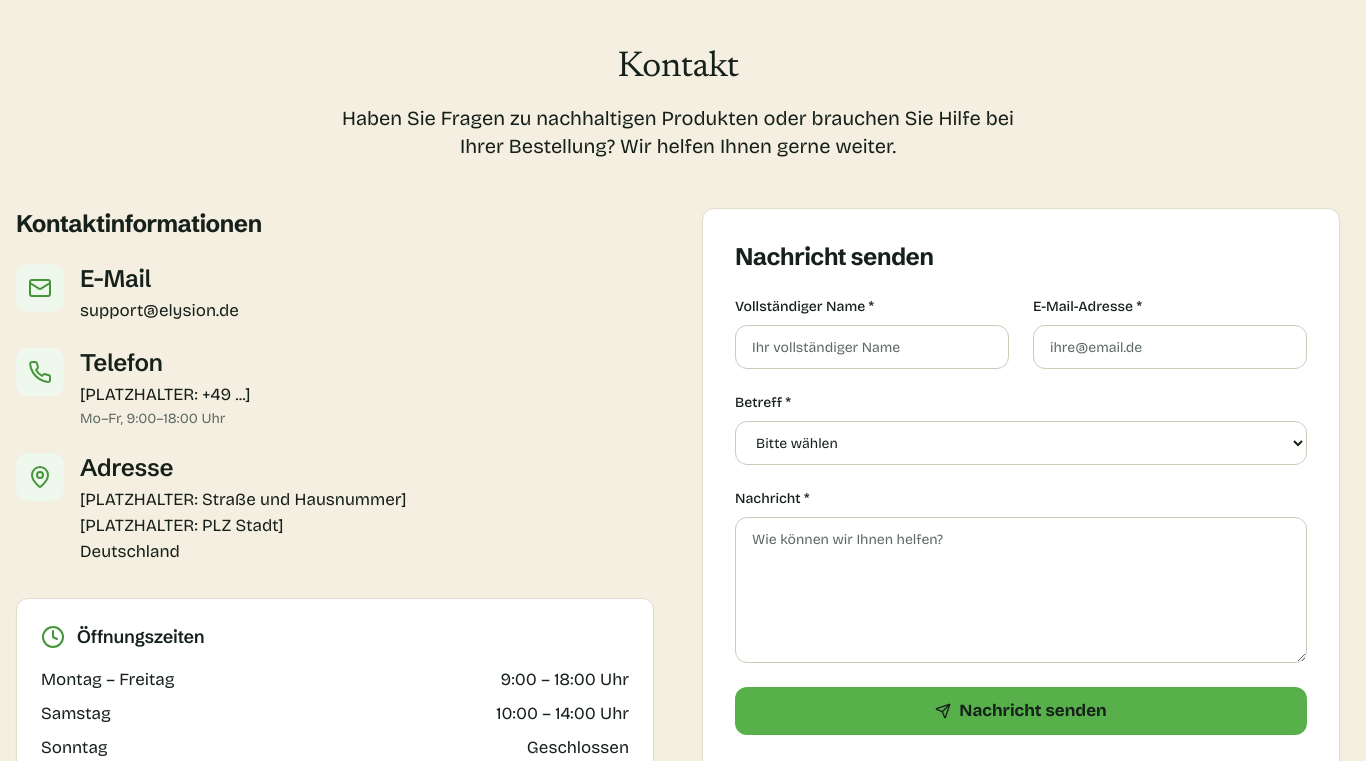
Scenario: Contact — POST /api/v1/contact (#120) › blocks a too-short message before the request and names the field
Type "Max Mustermann" into the field labelled "Vollständiger Name *" at [872, 347], box x1=735 y1=325 x2=1009 y2=369
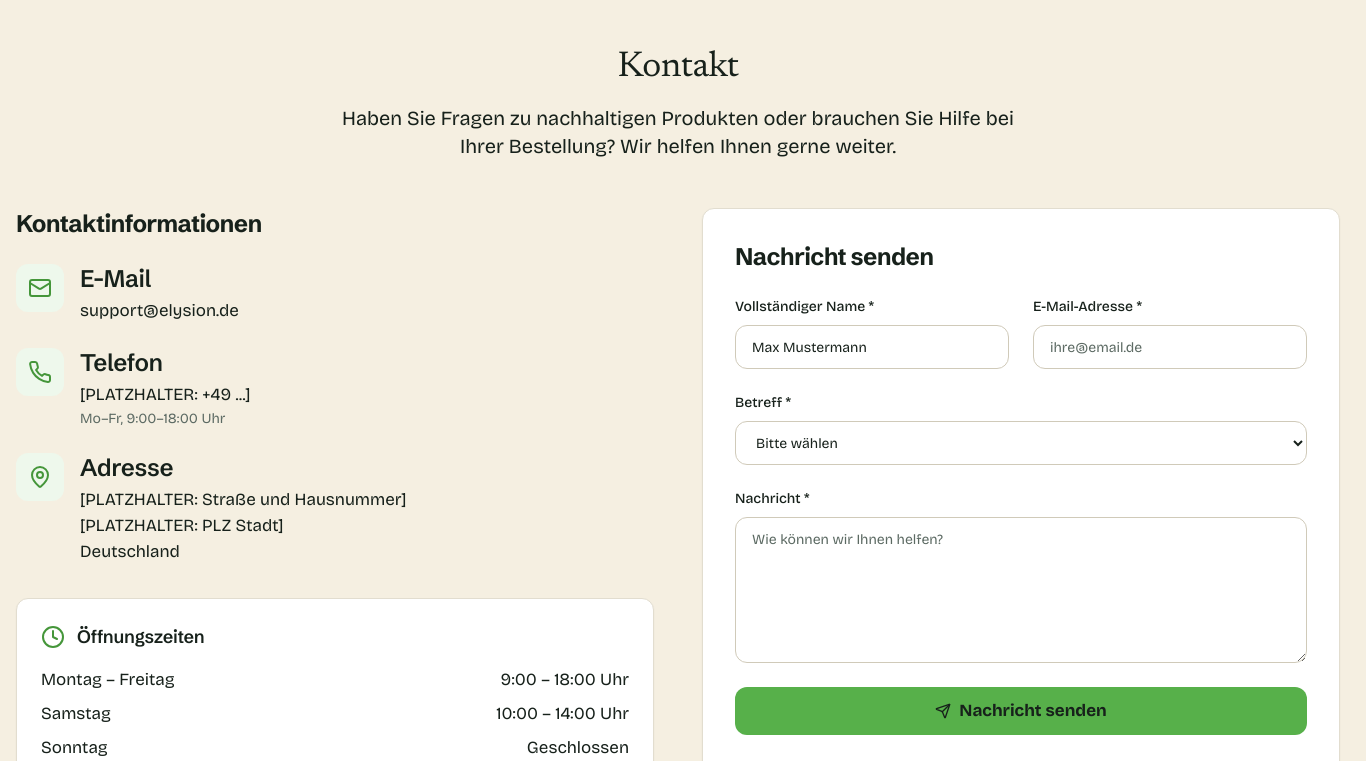
Type "max@example.com" into the field labelled "E-Mail-Adresse *" at [1170, 347], box x1=1033 y1=325 x2=1307 y2=369
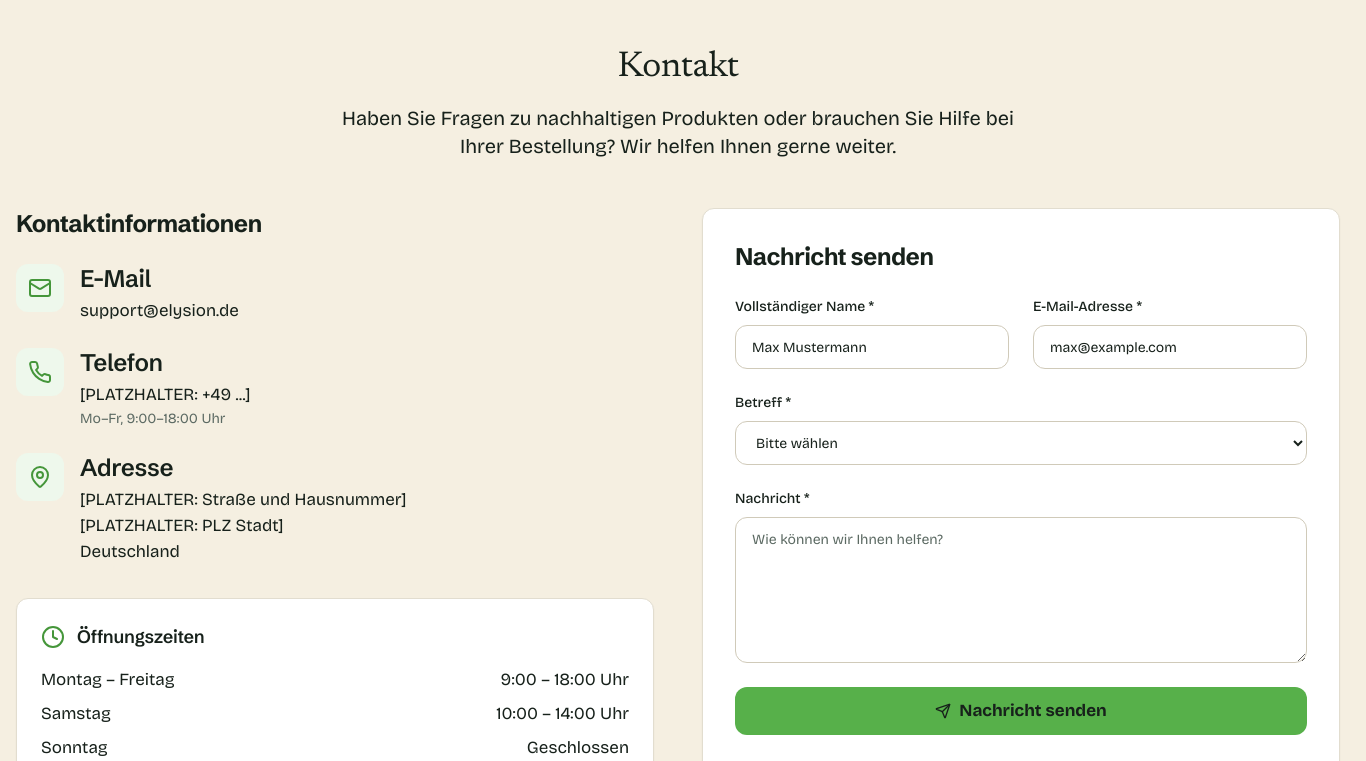
Select "Hilfe bei einer Bestellung" in the dropdown labelled "Betreff *" at [1021, 443], box x1=735 y1=421 x2=1307 y2=465
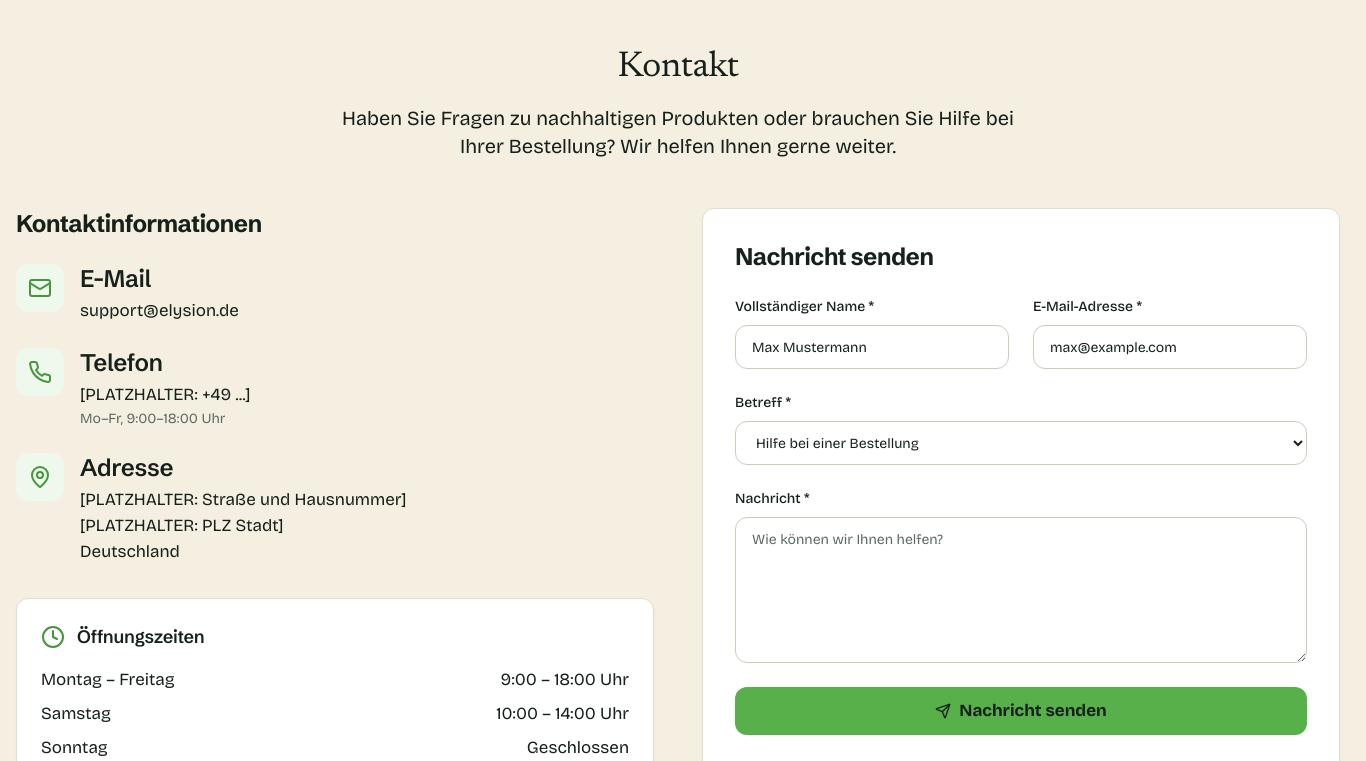
Type "Wo ist meine Bestellung?" into the text box labelled "Nachricht *" at [1021, 590], box x1=735 y1=517 x2=1307 y2=663
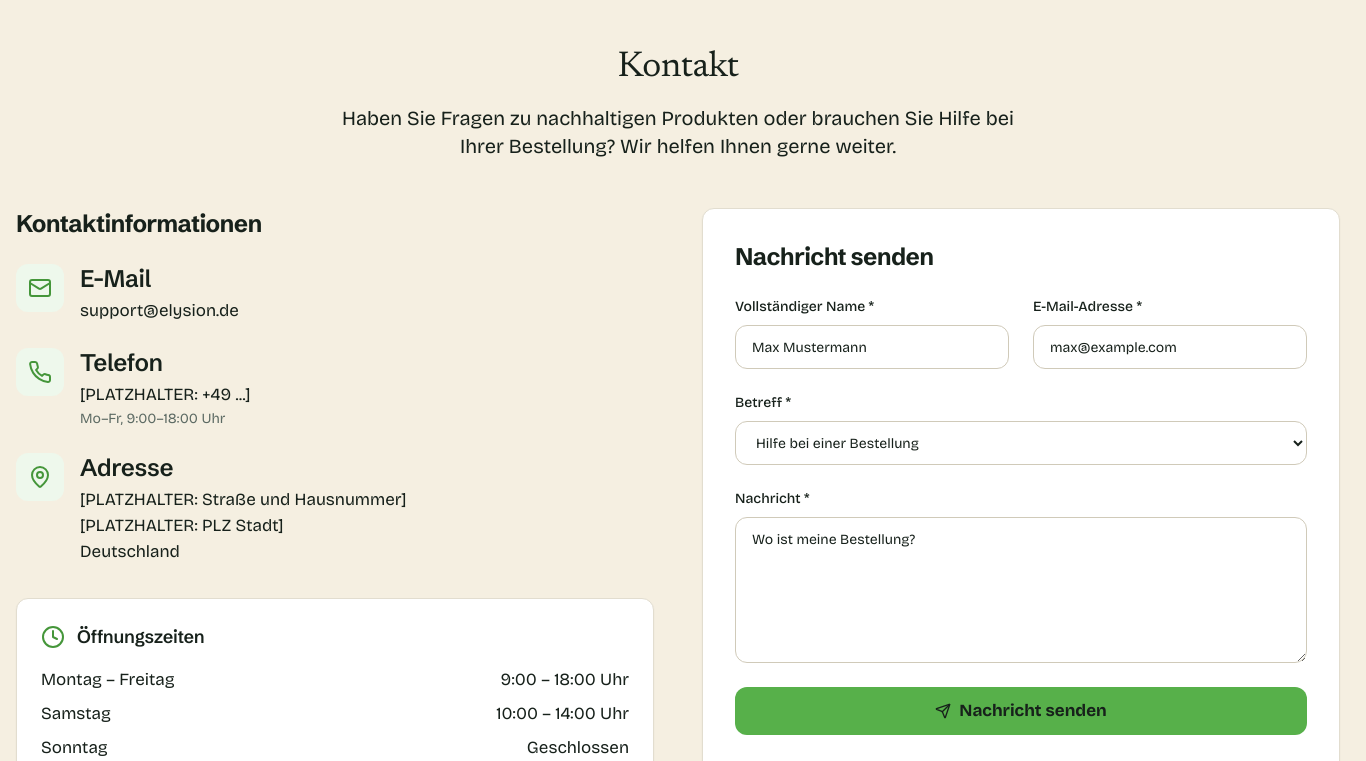
Replace the text in the text box labelled "Nachricht *" with "Hilfe!" at [1021, 590], box x1=735 y1=517 x2=1307 y2=663
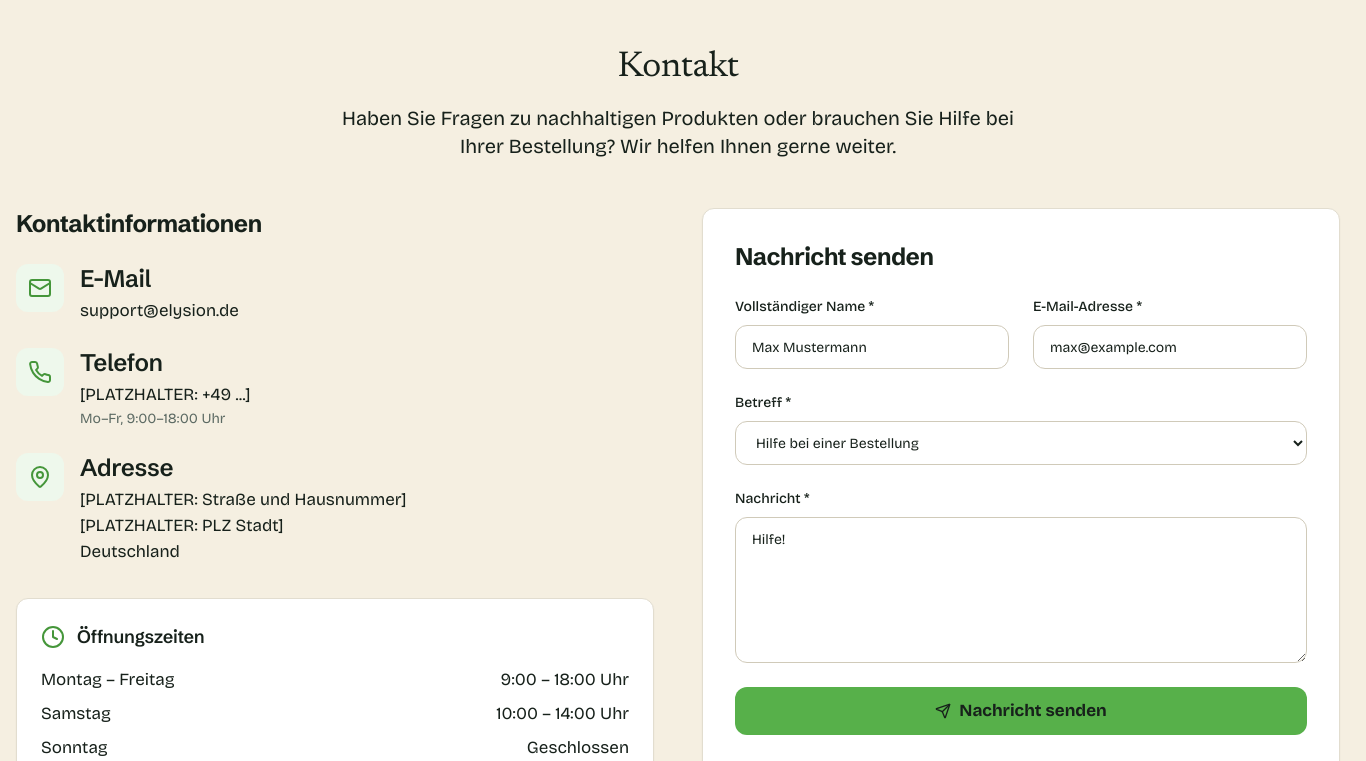
Click the button "Nachricht senden" at [1021, 711], box x1=735 y1=687 x2=1307 y2=735
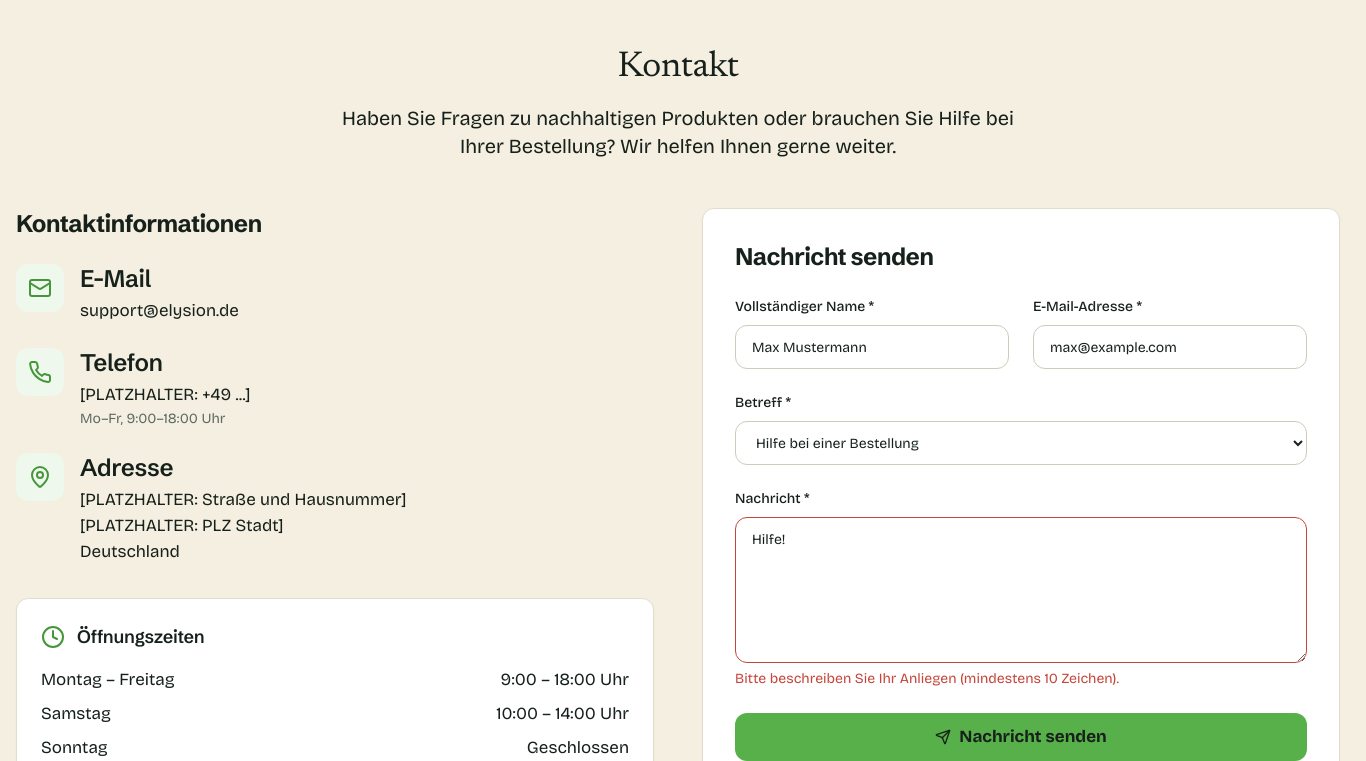
Expected: the message shows "mindestens 10 Zeichen", x1=735 y1=670 x2=1119 y2=687
